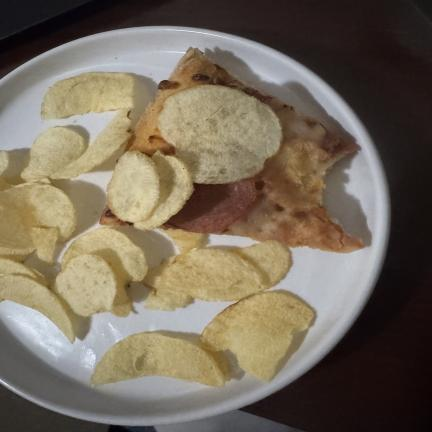chips: (158, 86, 281, 183), (201, 292, 313, 380), (62, 228, 147, 316), (92, 332, 225, 386), (145, 249, 266, 301), (0, 183, 75, 262), (50, 111, 131, 178), (0, 275, 75, 342), (135, 152, 193, 230), (62, 228, 147, 281), (41, 72, 134, 118), (7, 183, 76, 240), (55, 254, 117, 316), (107, 152, 160, 222), (22, 127, 86, 180), (233, 241, 291, 287), (0, 188, 35, 255), (0, 258, 47, 286), (31, 227, 59, 265), (161, 229, 207, 252), (146, 290, 193, 310), (146, 290, 192, 310), (0, 151, 8, 175), (0, 176, 12, 191)
pizza: (99, 47, 365, 253)
plate: (0, 27, 389, 425)
